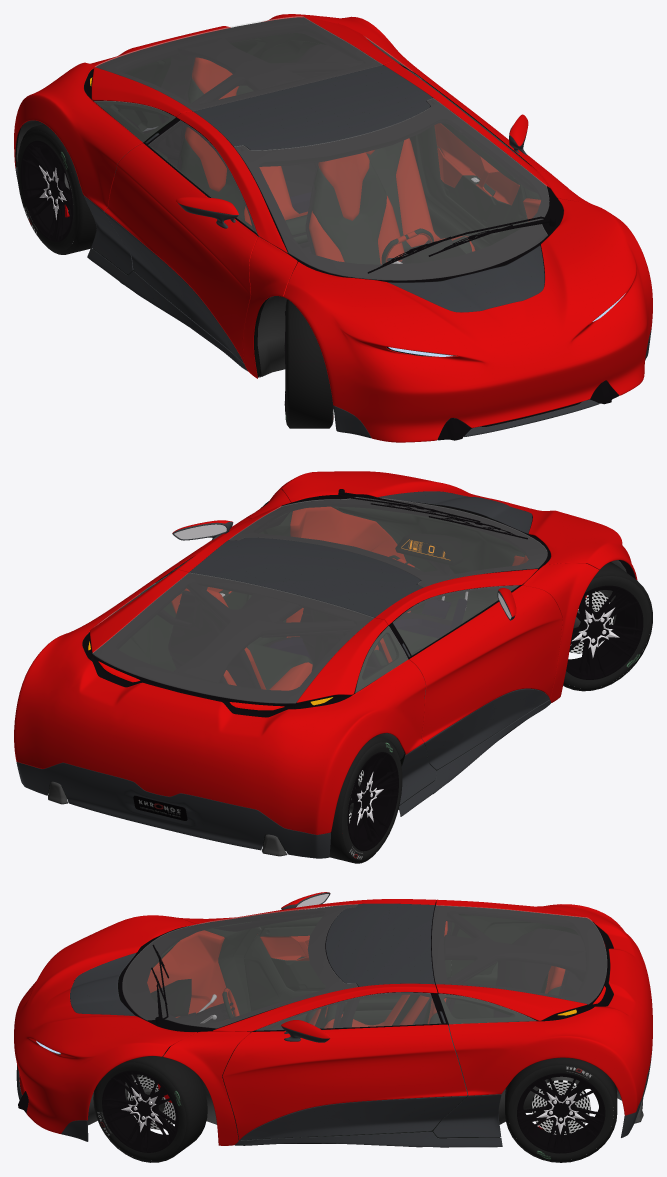
Rendered from concept-car.glb.
The picture shows the model from 3 angles, top to bottom: view 1: azimuth 30°, elevation 25°; view 2: azimuth 150°, elevation 25°; view 3: azimuth 270°, elevation 25°; orthographic projection. The views are drawn at different scales.
Parts seen in each view (by area): view 1: BodyRearPanelsColor1, BodyWindshield, BodyWindshieldGasket, BodyRoofPanel, InteriorDashSides, InteriorDashMid, InteriorSeatsColor2, object 21, WheelFrontLRim, BodyUnderside, InteriorMid, InteriorSteeringDash; view 2: BodyRearPanelsColor1, BodyWindshield, BodyRoofPanel, BodyWindshieldGasket, InteriorDashMid, WheelFrontLRim, object 21, InteriorDashSides, InteriorSeatsColor2, InteriorFloormats, InteriorSteeringDash, BodyUnderside (+3 smaller); view 3: BodyRearPanelsColor1, BodyWindshield, BodyRoofPanel, BodyWindshieldGasket, object 21, WheelFrontLRim, InteriorDashMid, InteriorDashSides, InteriorMid, WheelFrontLBrakeDisc, BodyUnderside, InteriorSeatsColor2 (+1 smaller).
Boxes of the visible parts, x1=… form: BodyRearPanelsColor1: x1=14, y1=14, x2=652, y2=442; BodyWindshield: x1=94, y1=16, x2=549, y2=280; BodyWindshieldGasket: x1=16, y1=17, x2=618, y2=440; BodyRoofPanel: x1=15, y1=65, x2=651, y2=438; InteriorDashSides: x1=185, y1=57, x2=540, y2=349; InteriorDashMid: x1=15, y1=33, x2=526, y2=281; InteriorSeatsColor2: x1=180, y1=78, x2=472, y2=264; object 21: x1=17, y1=124, x2=333, y2=428; WheelFrontLRim: x1=20, y1=140, x2=285, y2=414; BodyUnderside: x1=16, y1=78, x2=596, y2=421; InteriorMid: x1=93, y1=173, x2=557, y2=376; InteriorSteeringDash: x1=404, y1=239, x2=465, y2=263; BodyRearPanelsColor1: x1=14, y1=471, x2=637, y2=834; BodyWindshield: x1=92, y1=497, x2=547, y2=703; BodyRoofPanel: x1=16, y1=491, x2=550, y2=858; BodyWindshieldGasket: x1=83, y1=489, x2=635, y2=753; InteriorDashMid: x1=48, y1=503, x2=528, y2=850; WheelFrontLRim: x1=347, y1=585, x2=643, y2=851; object 21: x1=260, y1=501, x2=652, y2=863; InteriorDashSides: x1=171, y1=506, x2=528, y2=690; InteriorSeatsColor2: x1=246, y1=628, x2=437, y2=689; InteriorFloormats: x1=268, y1=598, x2=467, y2=659; InteriorSteeringDash: x1=395, y1=533, x2=462, y2=566; BodyUnderside: x1=48, y1=560, x2=626, y2=856; BodyRearPanelsColor1: x1=14, y1=892, x2=652, y2=1145; BodyWindshield: x1=122, y1=904, x2=606, y2=1030; BodyRoofPanel: x1=16, y1=892, x2=652, y2=1147; BodyWindshieldGasket: x1=18, y1=901, x2=613, y2=1143; object 21: x1=93, y1=1054, x2=617, y2=1162; WheelFrontLRim: x1=102, y1=1070, x2=605, y2=1153; InteriorDashMid: x1=118, y1=908, x2=613, y2=1030; InteriorDashSides: x1=147, y1=921, x2=565, y2=1028; InteriorMid: x1=205, y1=921, x2=499, y2=1143; WheelFrontLBrakeDisc: x1=127, y1=1075, x2=590, y2=1134; BodyUnderside: x1=37, y1=927, x2=643, y2=1125; InteriorSeatsColor2: x1=304, y1=973, x2=560, y2=1028.
Bounding box in the file's own units: 2.54 × 1.15 × 4.36.
23 materials, 18 textured.
